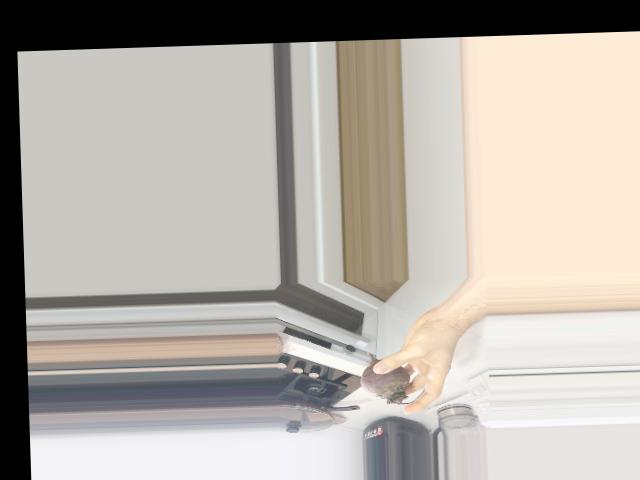beet: (359, 350, 424, 405)
